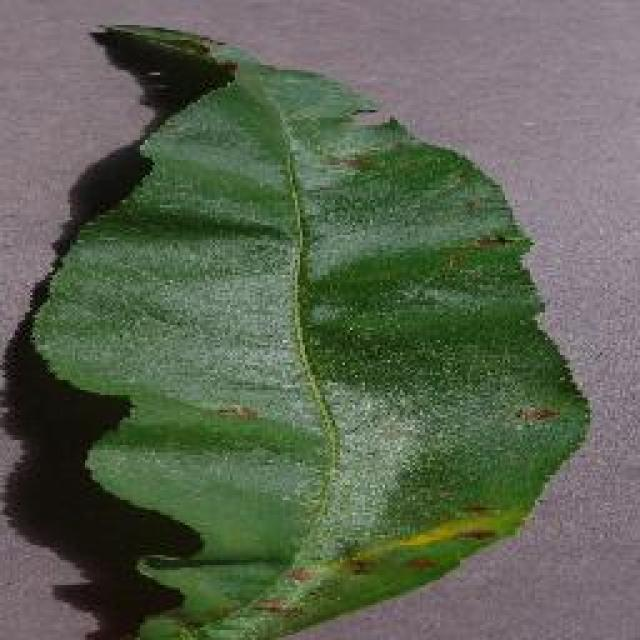Peach_Bacterial_Spot: (280, 106, 575, 552)
